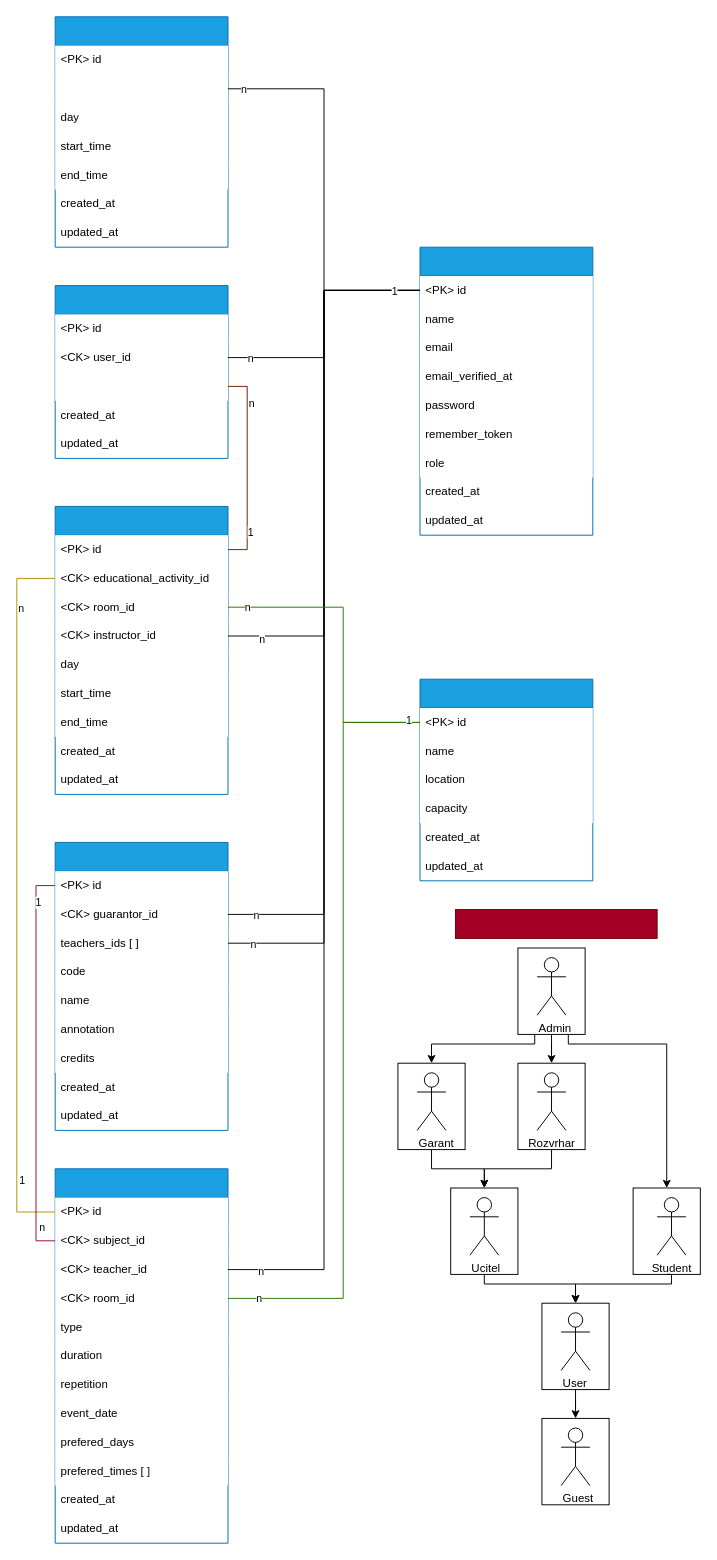
The diagram is 717 pixels wide and 1560 high, and some of its shapes have lost their labels. Each missing label, with the box of its shape:
<CK> instuctor_id: (55, 74, 228, 103)
<CK> schedule_id: (55, 372, 228, 400)
educational_activities: (54, 1168, 228, 1543)
rooms: (419, 678, 593, 881)
schedule_requirements: (54, 16, 228, 247)
schedules: (54, 505, 228, 794)
Strom Prav: (455, 909, 657, 938)
student_schedules: (54, 285, 228, 458)
subjects: (54, 841, 228, 1130)
users: (419, 246, 593, 535)
